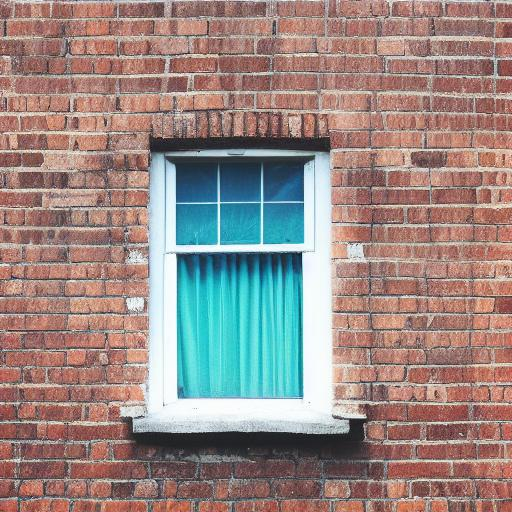Window: (121, 114, 370, 442)
